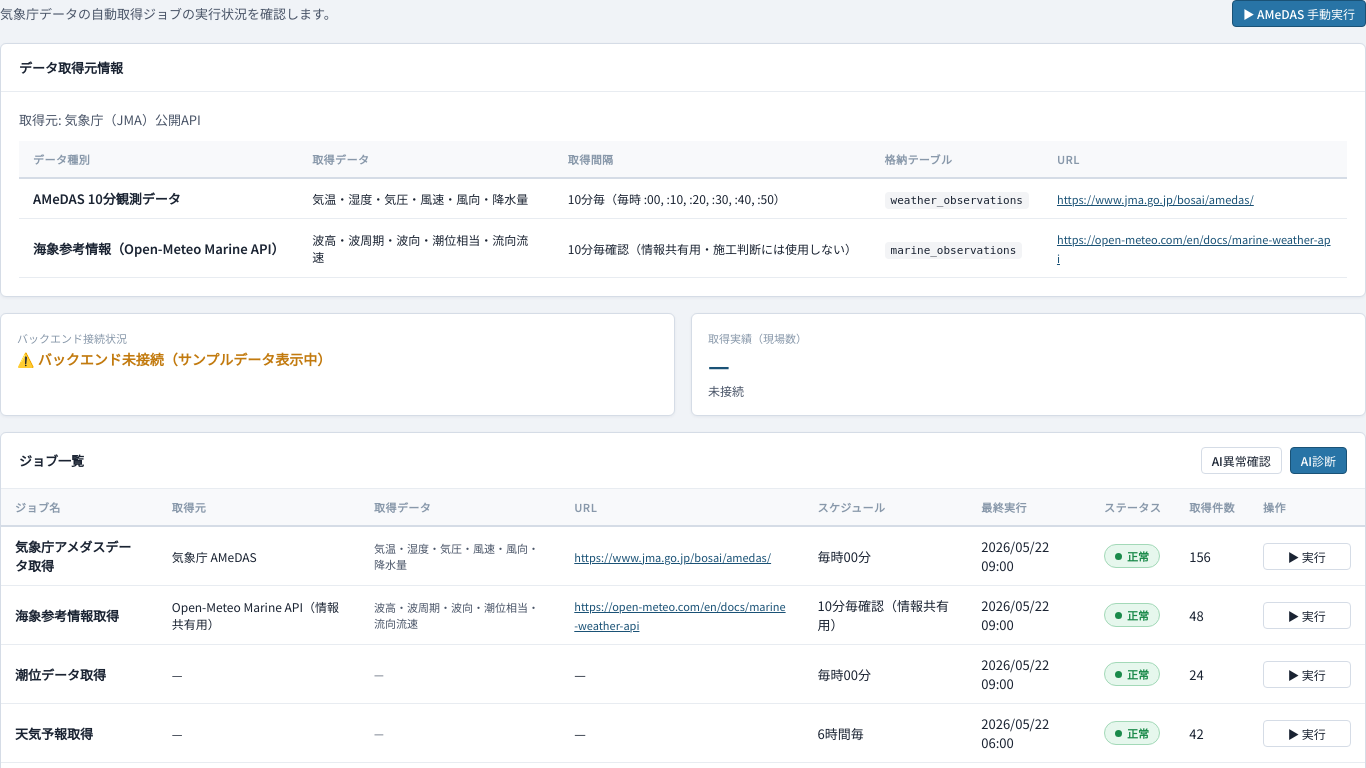
Test: EtlPage — backend fetch path › handleManualRun posts to /etl/run/1 and shows the completion message
Click the button "▶ AMeDAS 手動実行".
click(1299, 14)  # box [1232,0,1365,27]
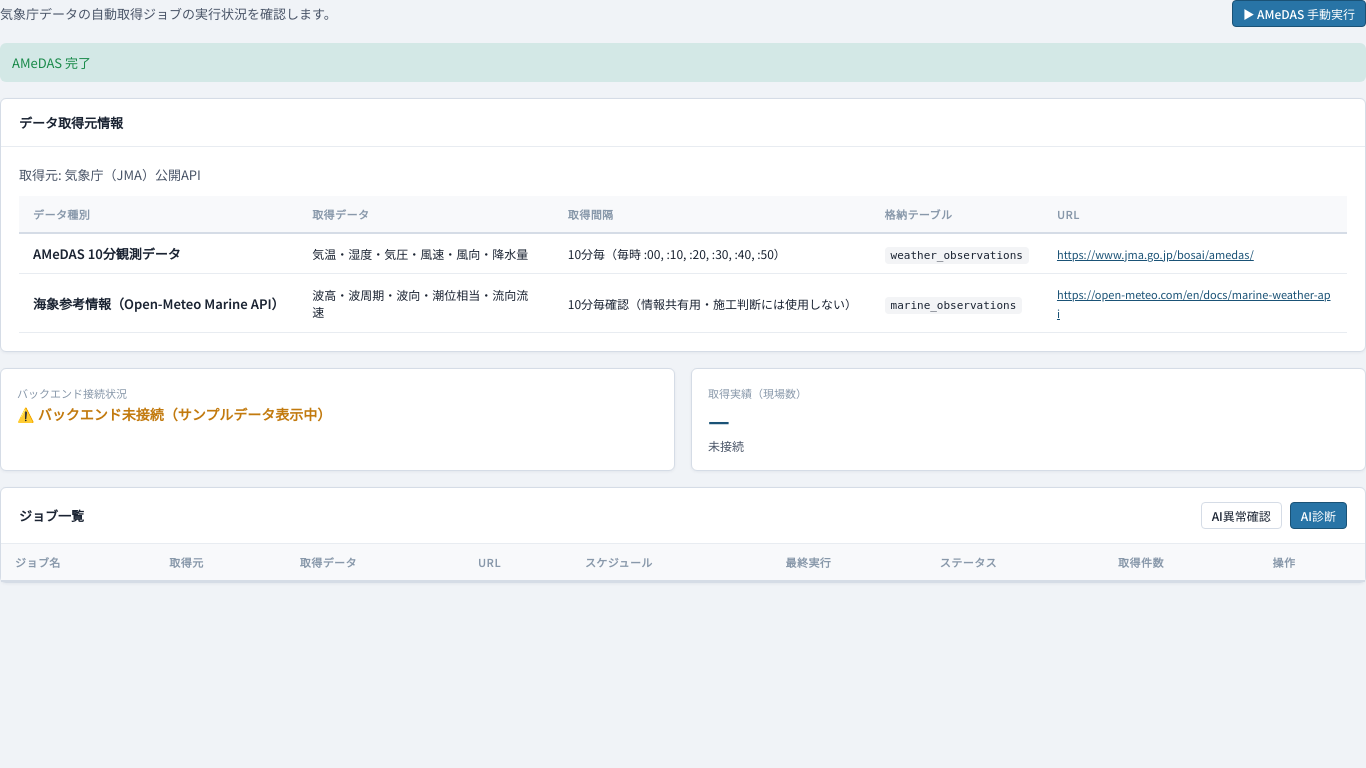
Result: the text "AMeDAS 完了" is shown at [0,43,1365,82]
